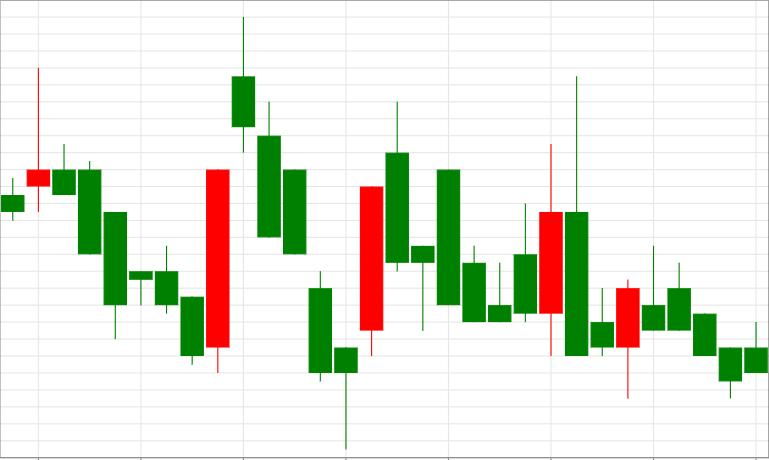bullish_engulfing_rise: (386, 102, 563, 355), (53, 144, 229, 372)
hammer_rise: (231, 17, 358, 450)
